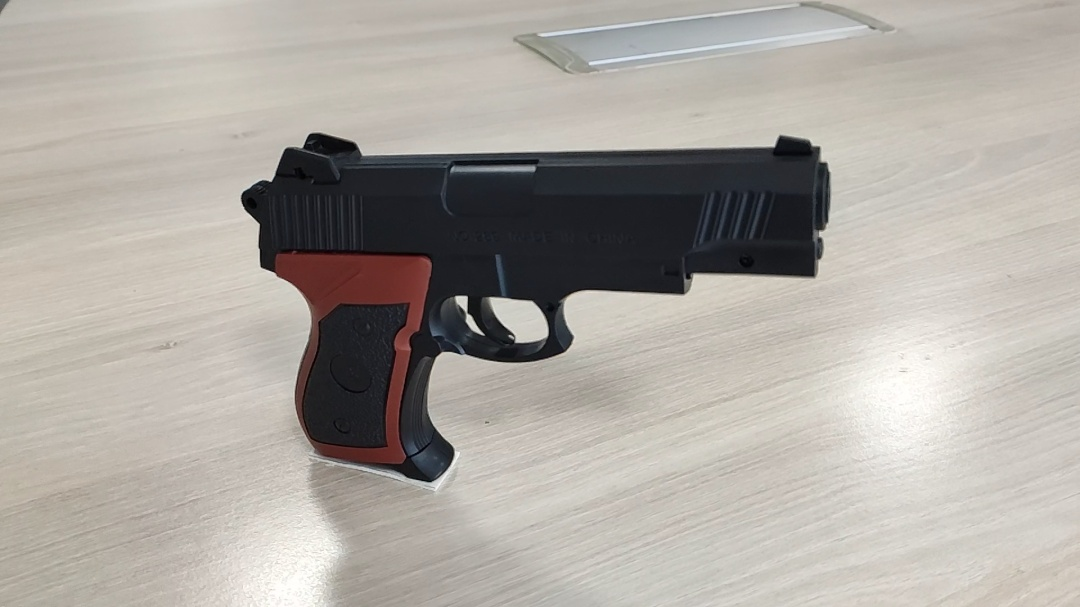gun: (585, 254, 635, 299)
